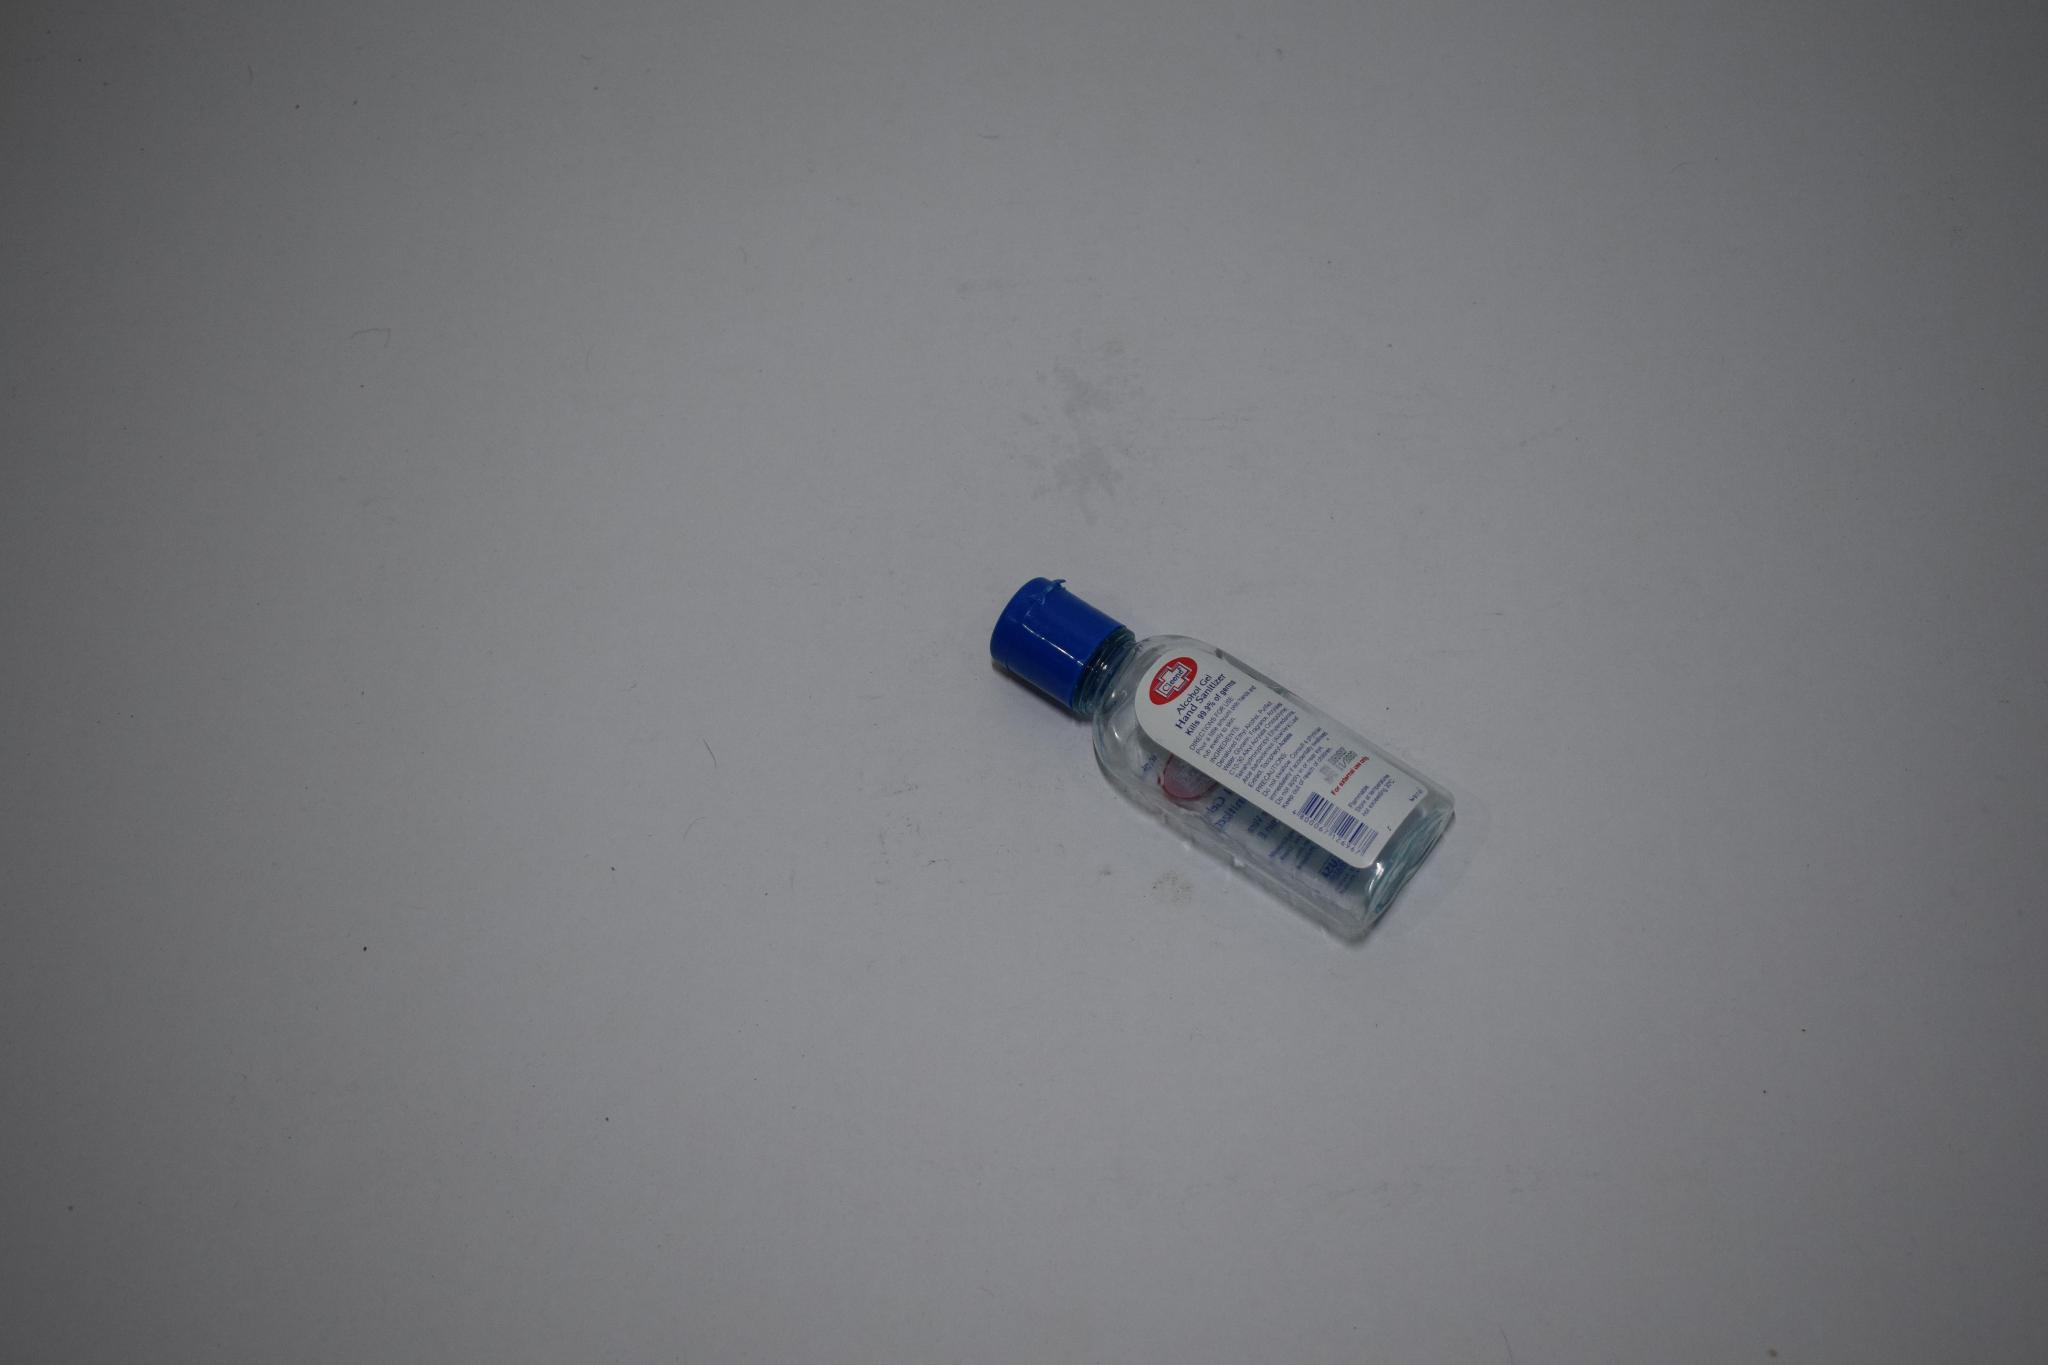bottle: (943, 551, 1514, 958)
